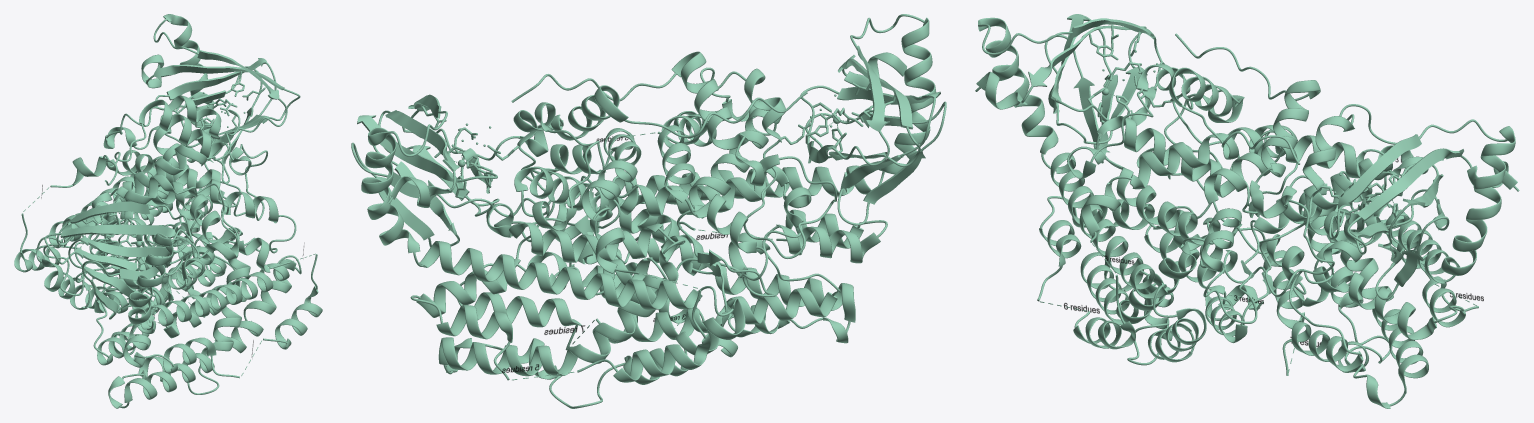
Rendered from Chara.glb.
3 views of the same model, side by side, from view 1: azimuth 30°, elevation 25°; view 2: azimuth 150°, elevation 25°; view 3: azimuth 270°, elevation 25° (orthographic). The views are drawn at different scales.
Visible parts, largest first — view 1: ribbons mesh, bonds; view 2: ribbons mesh, bonds, labels; view 3: ribbons mesh, bonds, labels.
Part boxes in pixels (x1,y1,x2,y2): ribbons mesh: (14, 14, 322, 408); bonds: (82, 72, 264, 270); ribbons mesh: (351, 14, 946, 408); bonds: (402, 83, 895, 198); labels: (502, 136, 727, 372); ribbons mesh: (975, 14, 1519, 408); bonds: (1088, 26, 1402, 229); labels: (1064, 158, 1483, 346).
Size of the model in its own units: 82.13 by 56.12 by 91.88.
3 materials, 1 textured.
